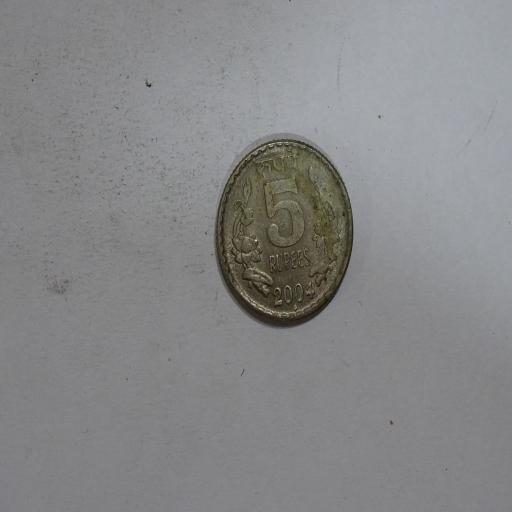rupee5: (213, 138, 354, 324)
